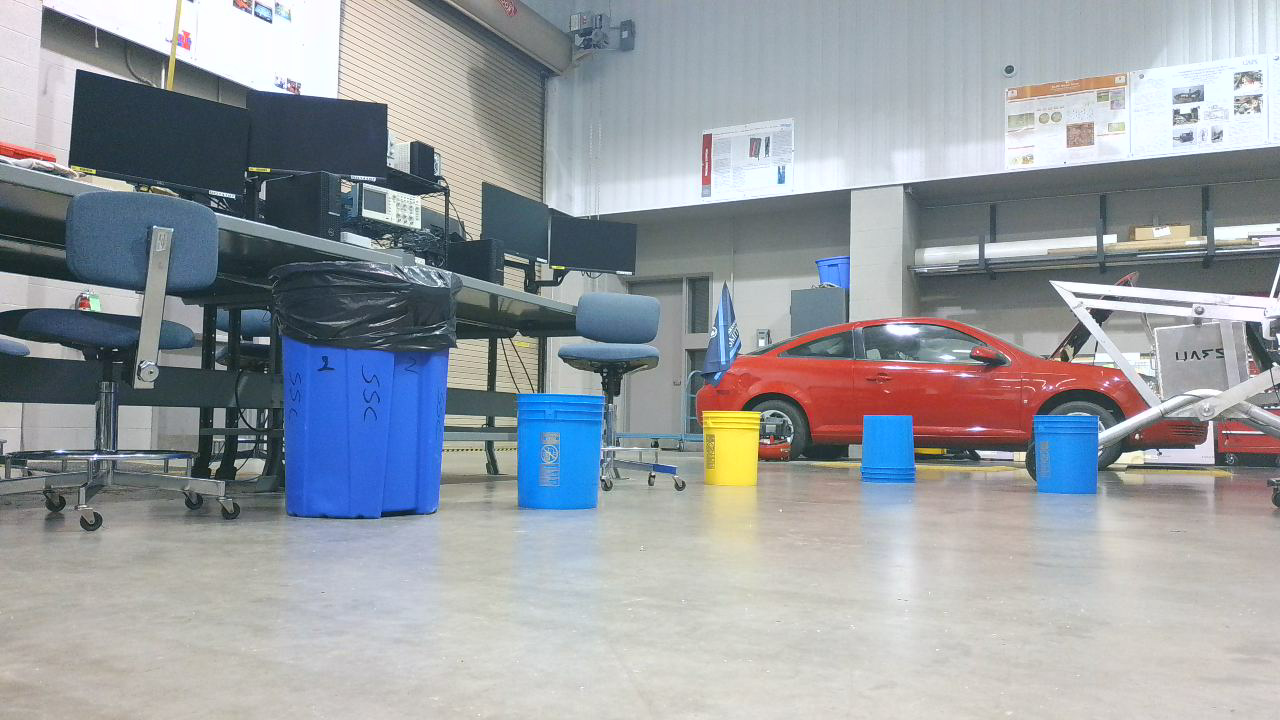blue_bucket: (516, 395, 616, 519), (1033, 415, 1111, 504), (861, 416, 927, 491)
yellow_bucket: (702, 413, 774, 496)
